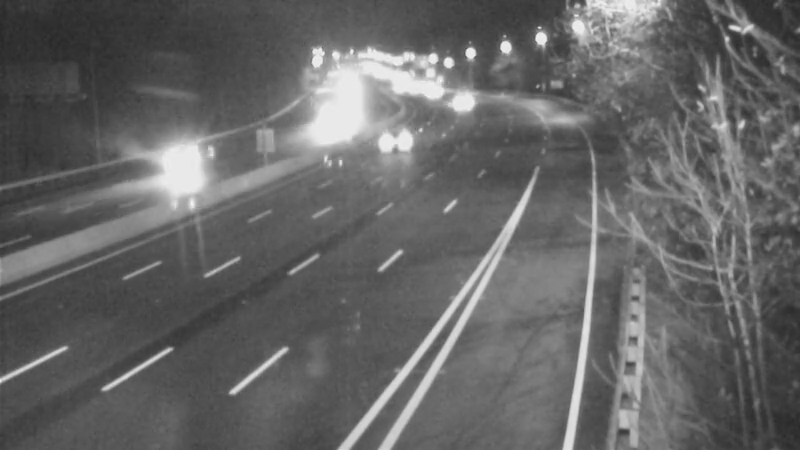vehicle: (124, 126, 204, 206), (436, 77, 486, 127), (370, 114, 420, 164)
